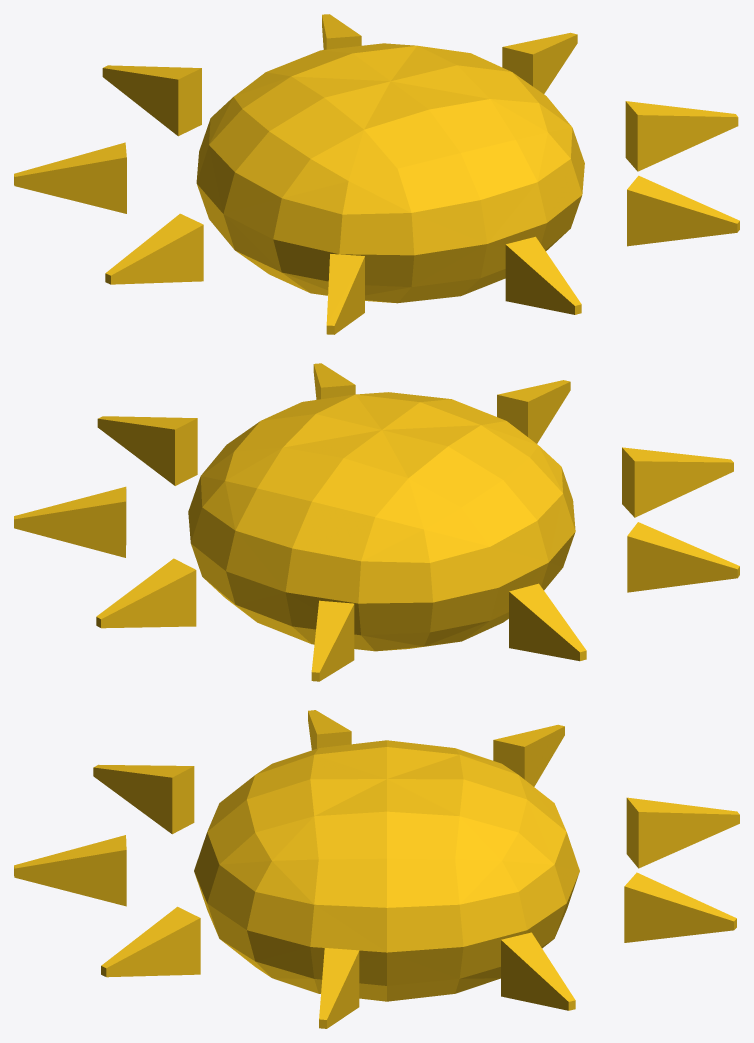
File: Sun model.fbx
The picture shows the model from 3 angles, top to bottom: view 1: azimuth 30°, elevation 25°; view 2: azimuth 150°, elevation 25°; view 3: azimuth 270°, elevation 25°; orthographic projection.
Parts seen in each view (by area): view 1: Cube.002, Cube.001; view 2: Cube.002, Cube.001; view 3: Cube.002, Cube.001.
Part boxes in pixels (x1=…): Cube.002: x1=196, y1=43, x2=584, y2=303; Cube.001: x1=14, y1=14, x2=739, y2=334; Cube.002: x1=188, y1=392, x2=575, y2=651; Cube.001: x1=14, y1=363, x2=739, y2=681; Cube.002: x1=194, y1=740, x2=579, y2=1001; Cube.001: x1=14, y1=710, x2=739, y2=1028.
Bounding box in the file's own units: 508 × 145 × 503.
1 material, 1 textured.
